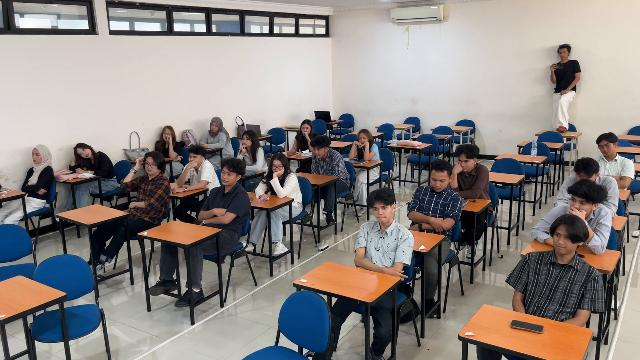bingung: (553, 231, 572, 255), (372, 204, 389, 223), (569, 196, 588, 210), (431, 175, 447, 191), (221, 168, 234, 185), (458, 156, 472, 171), (145, 158, 157, 174), (598, 143, 613, 155), (77, 148, 91, 158), (272, 162, 283, 172), (32, 151, 41, 163), (313, 148, 323, 158), (242, 136, 251, 147), (163, 129, 171, 140), (189, 154, 199, 162), (301, 125, 310, 133), (359, 134, 367, 143), (211, 123, 218, 132)
